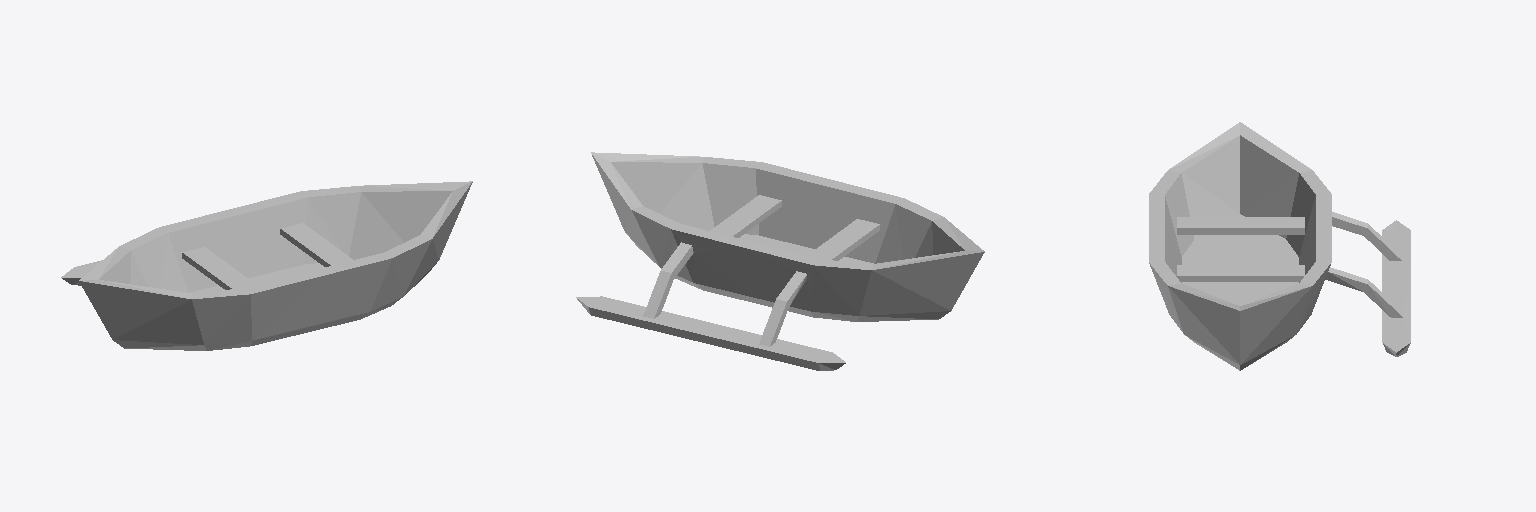
File: barque.obj
3 renders of one model, left to right at view 1: azimuth 30°, elevation 25°; view 2: azimuth 150°, elevation 25°; view 3: azimuth 270°, elevation 25°, orthographic.
Parts seen in each view (by area): view 1: barque; view 2: barque; view 3: barque.
Boxes of the visible parts, x1,y1,x2,y2 form: barque: [61, 181, 472, 350]; barque: [576, 152, 984, 370]; barque: [1149, 122, 1410, 370].
Bounding box in the file's own units: 3.66 × 0.728 × 2.11.